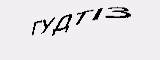І: (91, 7, 106, 21)
Г: (30, 19, 43, 36)
Д: (51, 12, 74, 37)
З: (104, 5, 133, 19)
Т: (74, 8, 95, 28)
У: (39, 16, 55, 38)
